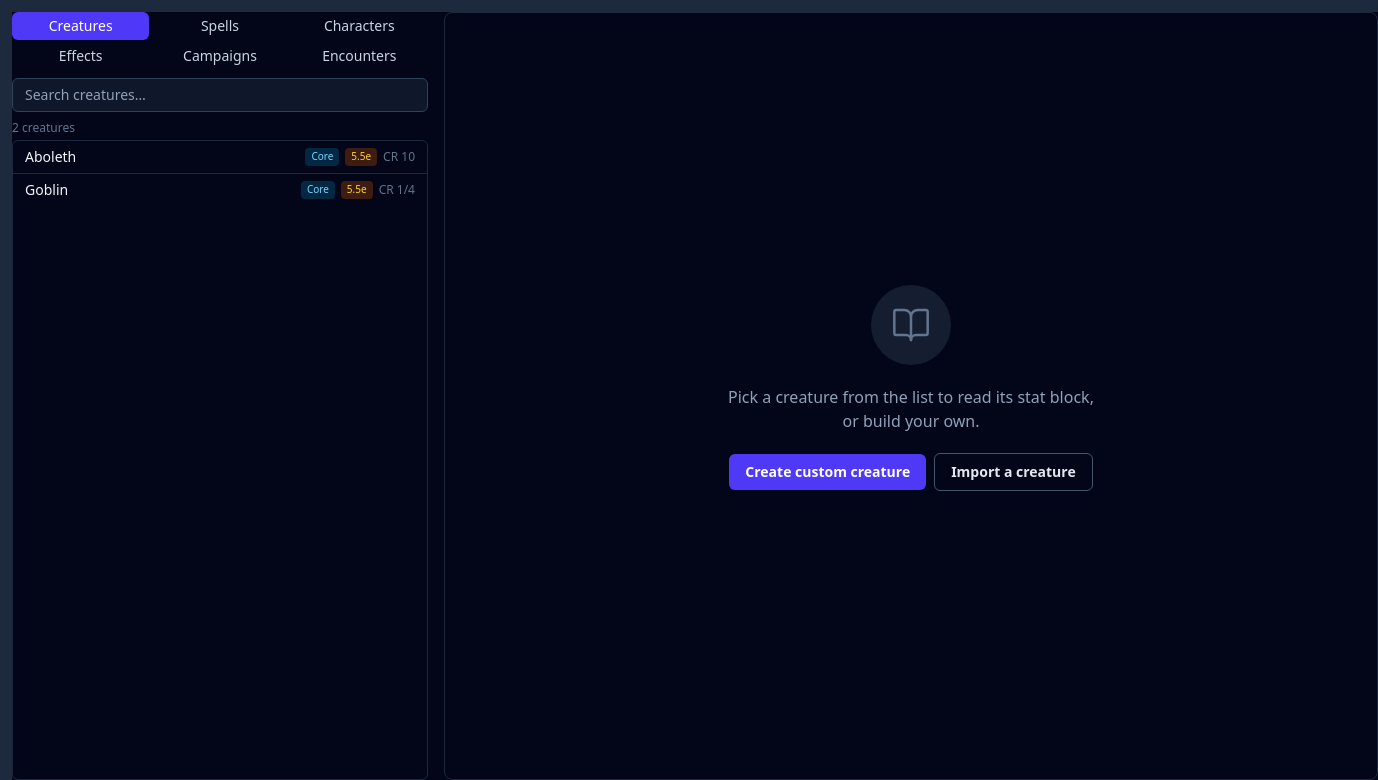
Test: Compendium › switches to the spells tab and opens a spell
The width and height of the screenshot is (1378, 780).
expect the text "Goblin" is shown: met, box [25,180,68,200]
Click the tab "Spells".
click(220, 26)  # box [151,12,289,40]
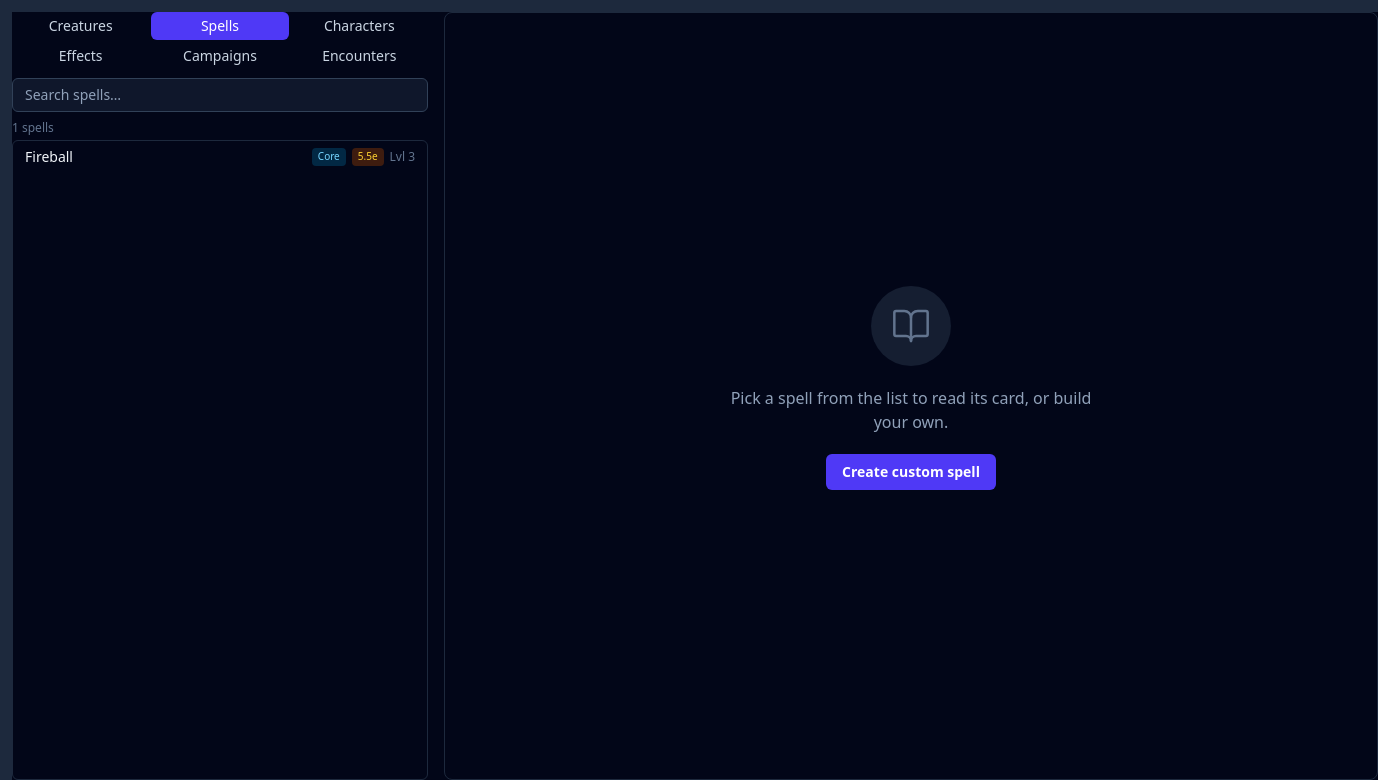
expect the text "Fireball" is shown: met
Click the text "Fireball".
click(49, 157)  # box [25,147,73,167]
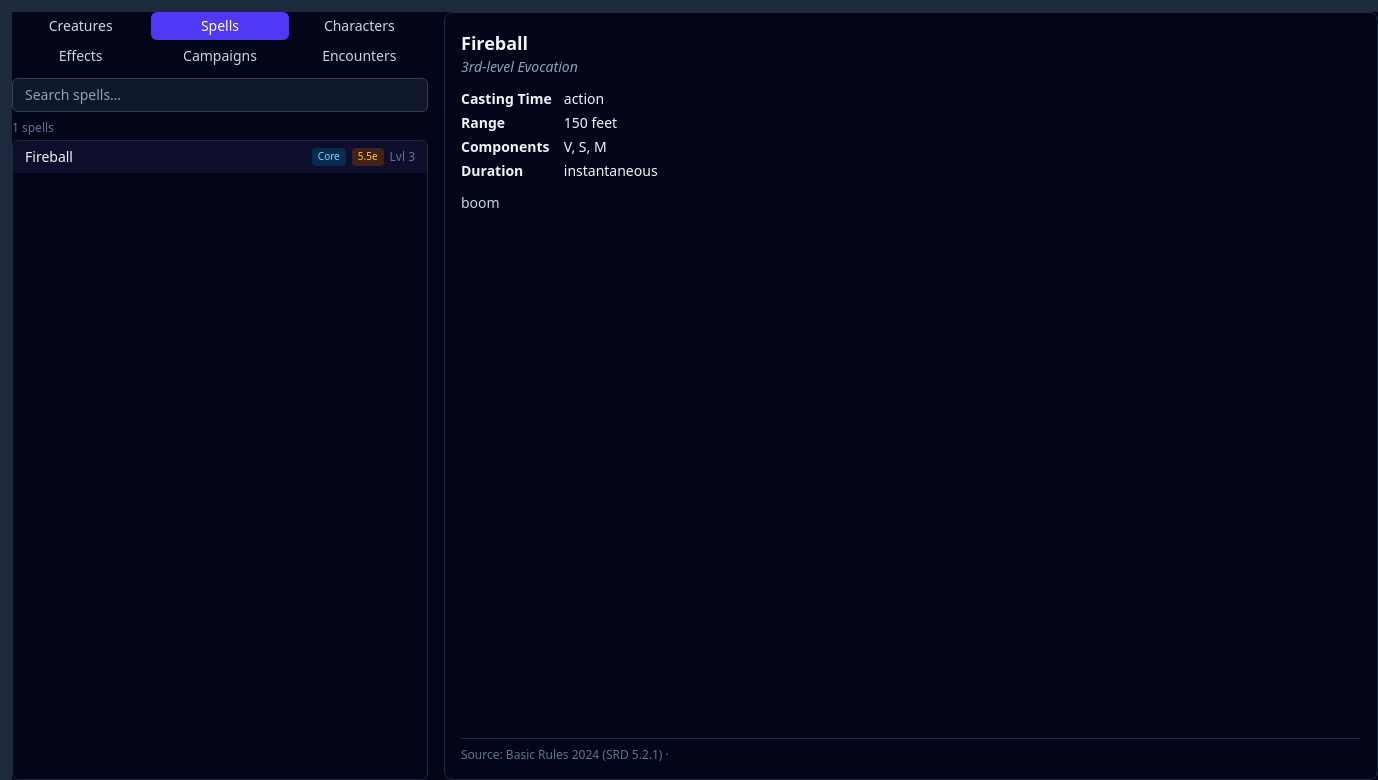
expect the text "3rd-level Evocation" is shown: met, box [461,57,578,77]
